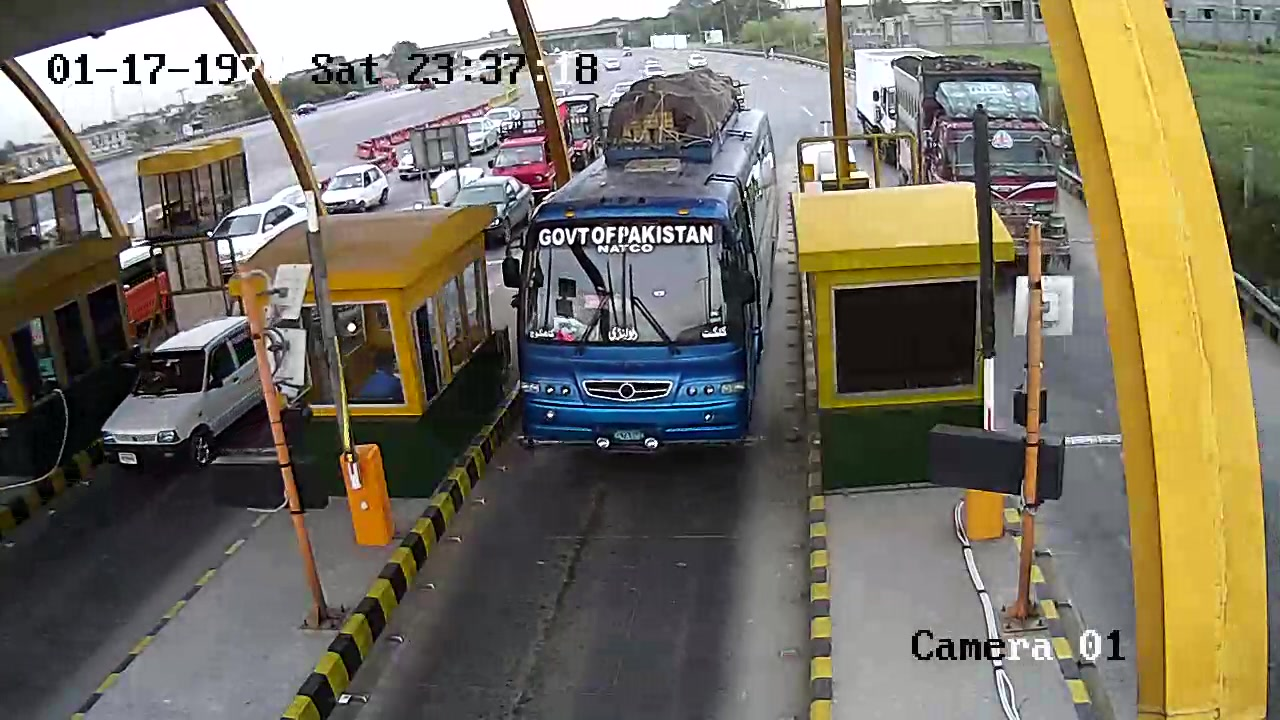F4: (515, 73, 780, 460)
